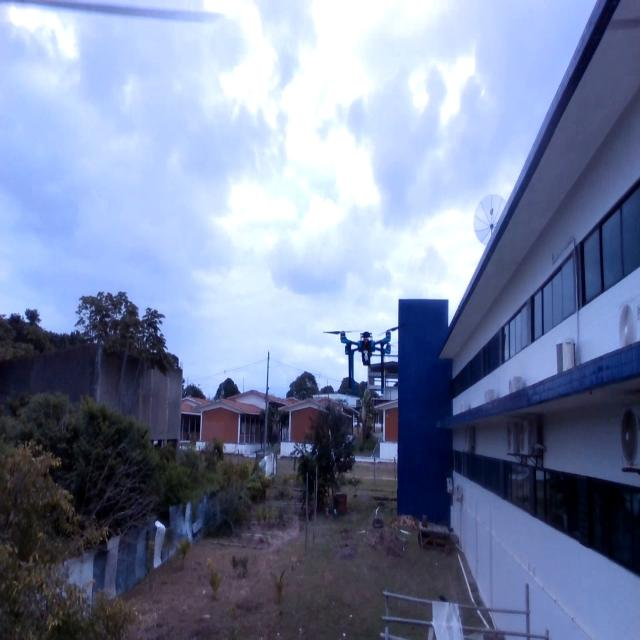-uav-: (322, 316, 411, 402)
